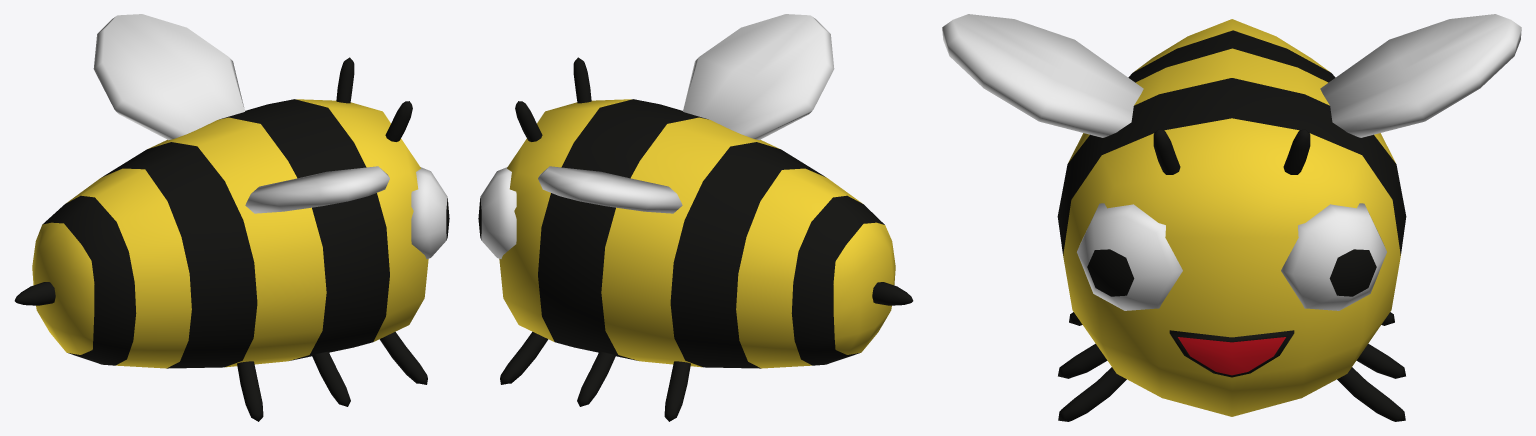
The model's file is SoftToy_Bee.fbx.
The picture shows the model from 3 angles, left to right: view 1: azimuth 30°, elevation 25°; view 2: azimuth 150°, elevation 25°; view 3: azimuth 270°, elevation 25°; orthographic projection. The views are drawn at different scales.
Parts seen in each view (by area): view 1: Bee_Body, Bee_wing2, Bee_wing1, Bee_eyes, Bee_Antenna, Bee_Front_legs, Bee_Back_legs, Bee_middle_legs, Bee_sting; view 2: Bee_Body, Bee_wing1, Bee_wing2, Bee_eyes, Bee_Antenna, Bee_Front_legs, Bee_Back_legs, Bee_middle_legs, Bee_sting; view 3: Bee_Body, Bee_eyes, Bee_wing2, Bee_wing1, Bee_mouth, Bee_Front_legs, Bee_middle_legs, Bee_Antenna.
Boxes of the visible parts, x1,y1,x2,y2 form: Bee_Body: (32,99,428,368); Bee_wing2: (93,14,244,140); Bee_wing1: (245,166,389,213); Bee_eyes: (411,167,449,258); Bee_Antenna: (336,57,412,141); Bee_Front_legs: (379,331,427,384); Bee_Back_legs: (237,361,263,421); Bee_middle_legs: (312,351,350,406); Bee_sting: (14,282,55,305); Bee_Body: (499,99,895,368); Bee_wing1: (683,14,834,140); Bee_wing2: (538,166,682,213); Bee_eyes: (478,167,516,258); Bee_Antenna: (515,57,591,141); Bee_Front_legs: (500,331,548,384); Bee_Back_legs: (664,361,690,421); Bee_middle_legs: (577,351,615,406); Bee_sting: (872,282,913,305); Bee_Body: (1057,19,1406,416); Bee_eyes: (1077,203,1386,310); Bee_wing2: (1320,14,1521,137); Bee_wing1: (942,14,1143,137); Bee_mouth: (1169,330,1294,377); Bee_Front_legs: (1058,367,1405,421); Bee_middle_legs: (1058,343,1405,378); Bee_Antenna: (1153,129,1310,174).
Size of the model in its own units: 69.63 by 45.06 by 71.5.
